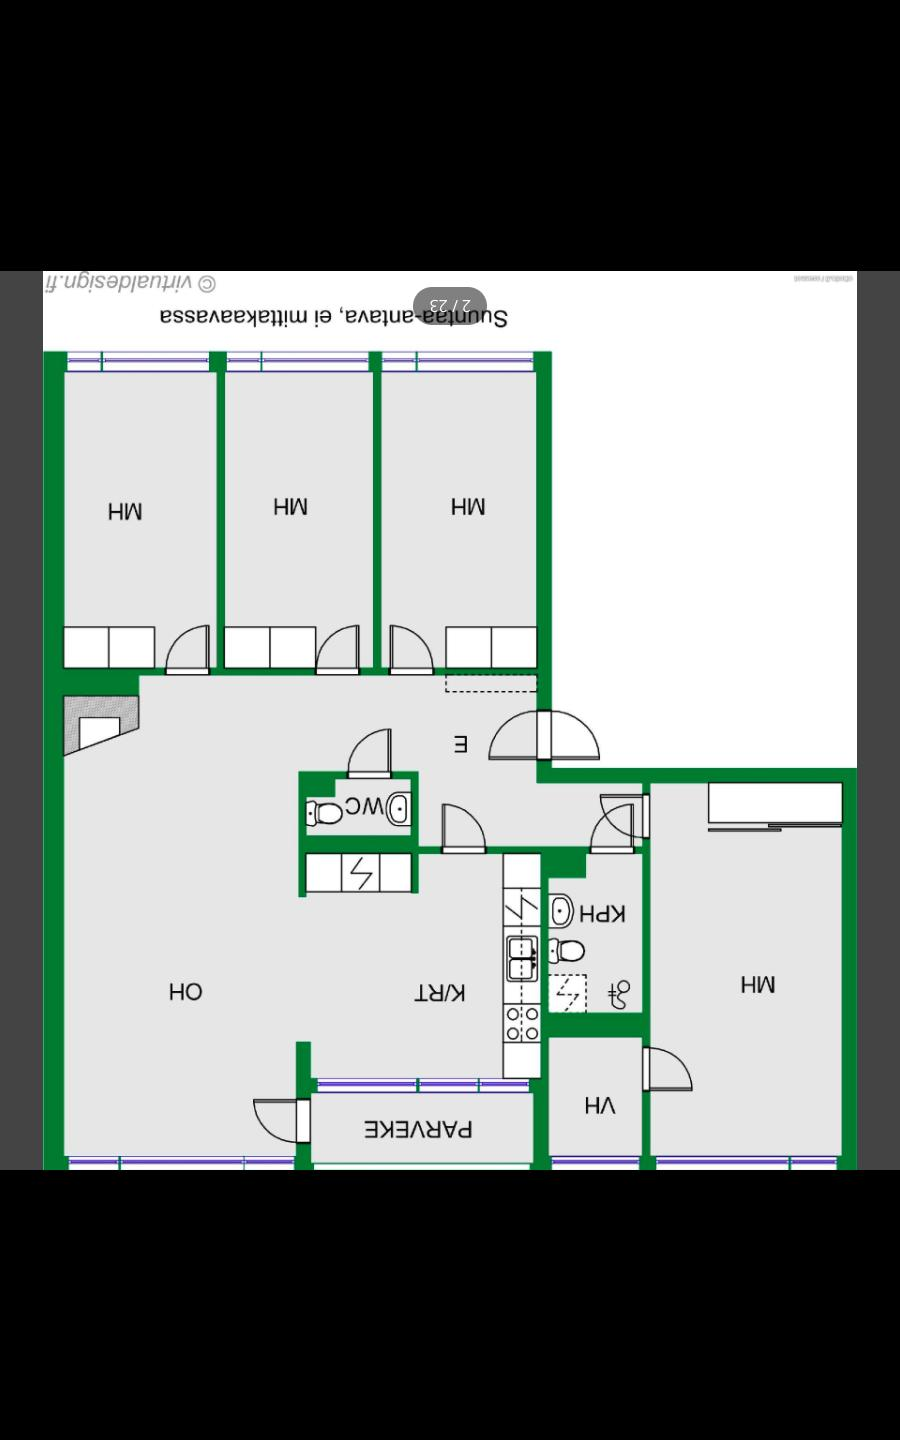door: (535, 704, 604, 764), (345, 722, 401, 786), (437, 802, 495, 862), (638, 1037, 696, 1095), (247, 1091, 307, 1147), (309, 624, 365, 682), (381, 620, 437, 678), (159, 622, 213, 682), (485, 712, 547, 764), (595, 788, 651, 834), (587, 806, 635, 856)
window: (66, 1151, 301, 1170), (413, 341, 545, 371), (644, 1145, 793, 1170), (99, 347, 217, 375), (259, 345, 375, 369), (539, 1151, 649, 1170), (786, 1147, 849, 1170), (373, 343, 425, 371), (56, 349, 105, 375), (215, 349, 264, 373)
